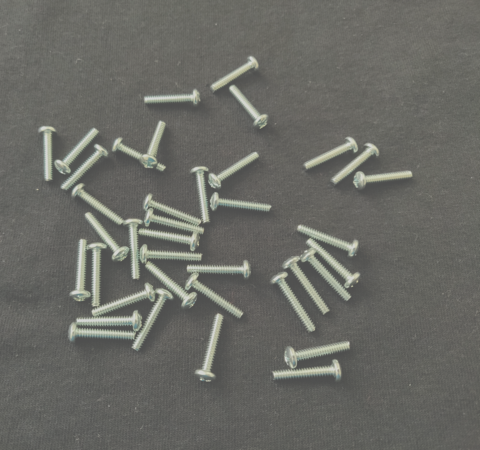longscrew: (268, 269, 318, 335), (281, 253, 330, 318), (298, 247, 352, 304), (305, 237, 362, 290), (185, 272, 244, 323), (130, 287, 173, 355), (143, 260, 200, 309), (89, 282, 158, 319), (329, 142, 382, 189), (70, 184, 127, 227), (60, 143, 109, 193), (294, 222, 362, 258), (54, 126, 100, 178), (195, 314, 227, 386), (226, 82, 272, 132), (84, 212, 128, 264), (300, 135, 360, 173), (282, 339, 354, 370), (207, 152, 261, 193), (112, 137, 169, 174), (208, 56, 261, 94), (142, 194, 202, 227), (142, 206, 207, 236), (271, 359, 344, 385), (135, 226, 203, 252), (66, 322, 139, 346), (75, 309, 145, 333), (354, 168, 416, 193), (188, 165, 213, 226), (184, 259, 253, 281), (87, 242, 109, 310), (139, 243, 201, 267), (69, 238, 91, 304), (208, 193, 276, 214), (141, 119, 168, 169), (123, 216, 144, 280), (141, 89, 204, 110), (39, 125, 59, 184)
